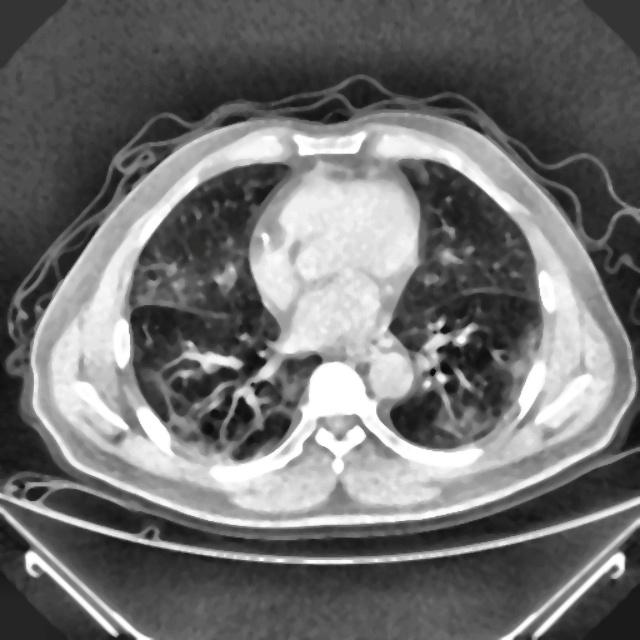covid: (7, 78, 638, 541)
